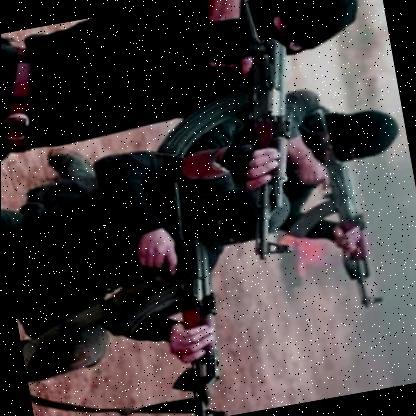rifle: (142, 22, 323, 269), (270, 94, 388, 317), (132, 214, 240, 416)
